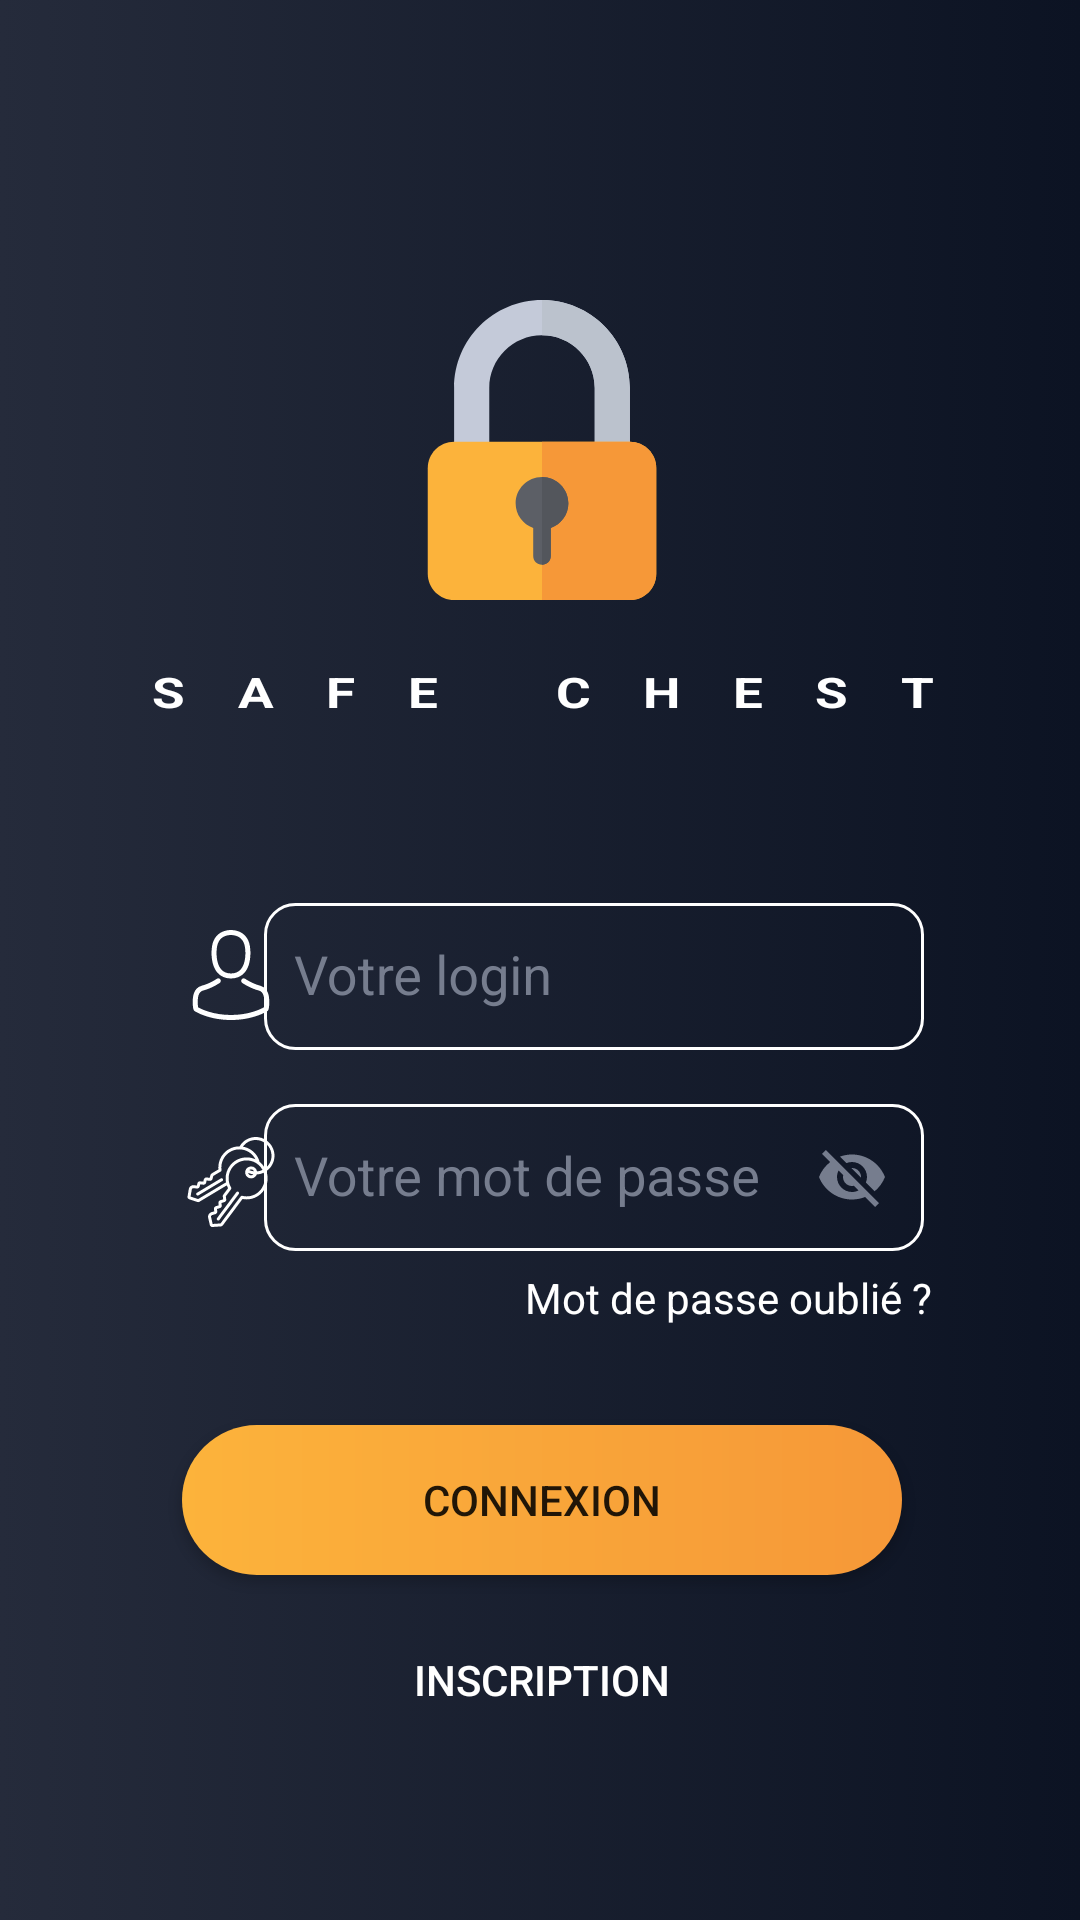

Named icons in this screenshot (1080 x 1920) and their centers, (x,y):
keychain: (231,1182)
padlock: (542,450)
